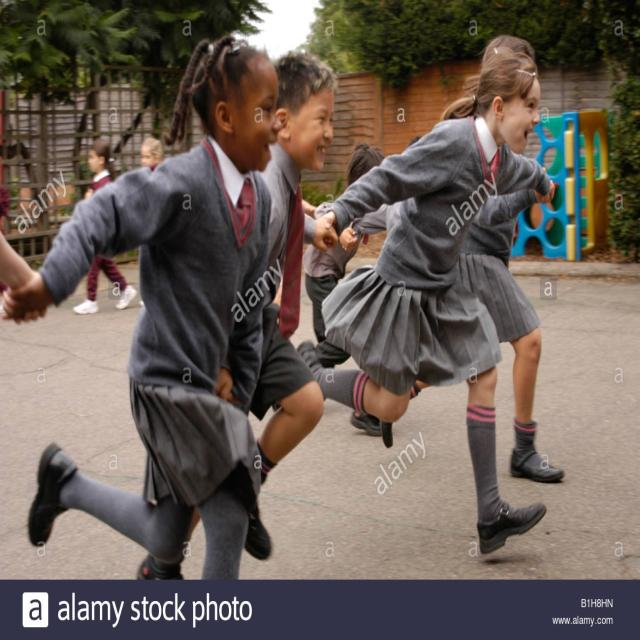body: (2, 30, 285, 579), (295, 50, 553, 558), (136, 45, 340, 580), (377, 30, 568, 487), (346, 132, 426, 434), (300, 138, 388, 372), (71, 136, 139, 316), (1, 226, 46, 332), (139, 136, 165, 172)
